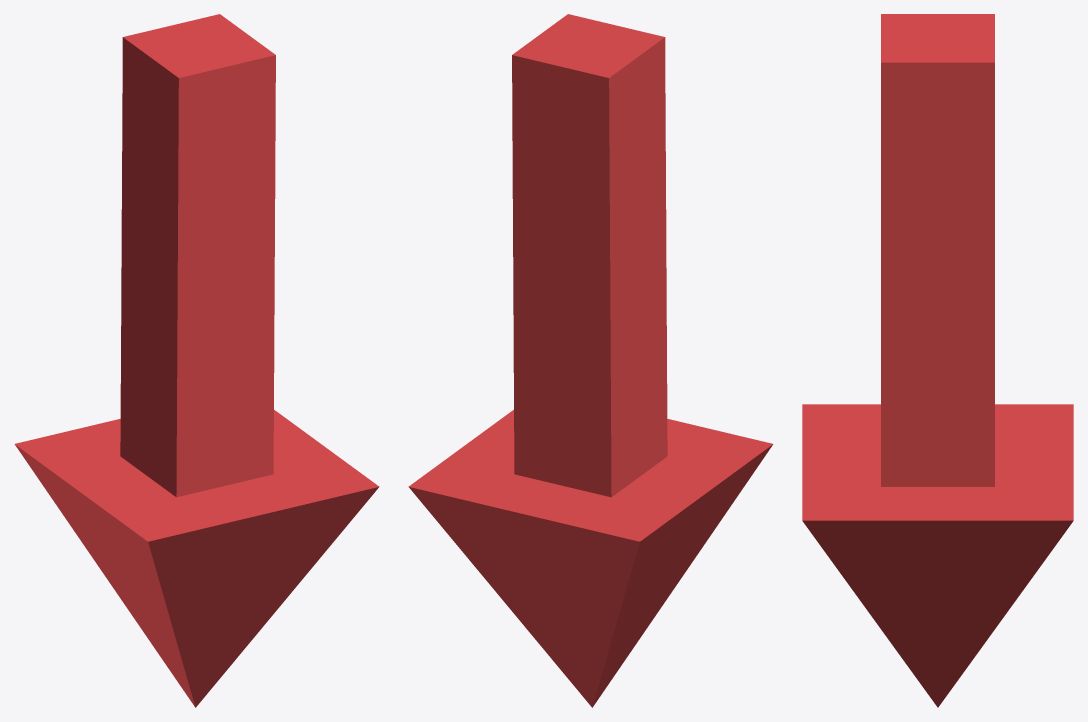
File: Arrow.fbx
3 views of the same model, side by side, from view 1: azimuth 30°, elevation 25°; view 2: azimuth 150°, elevation 25°; view 3: azimuth 270°, elevation 25° (orthographic).
Parts seen in each view (by area): view 1: 立方体; view 2: 立方体; view 3: 立方体.
Part boxes in pixels (x1=…): 立方体: x1=14, y1=14, x2=379, y2=707; 立方体: x1=408, y1=14, x2=773, y2=707; 立方体: x1=802, y1=14, x2=1073, y2=707.
Bounding box in the file's own units: 85.57 × 234 × 85.57.
